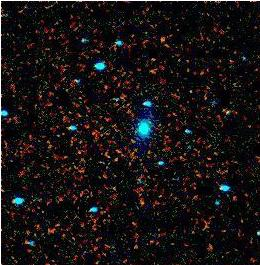star: (147, 23, 177, 53)
